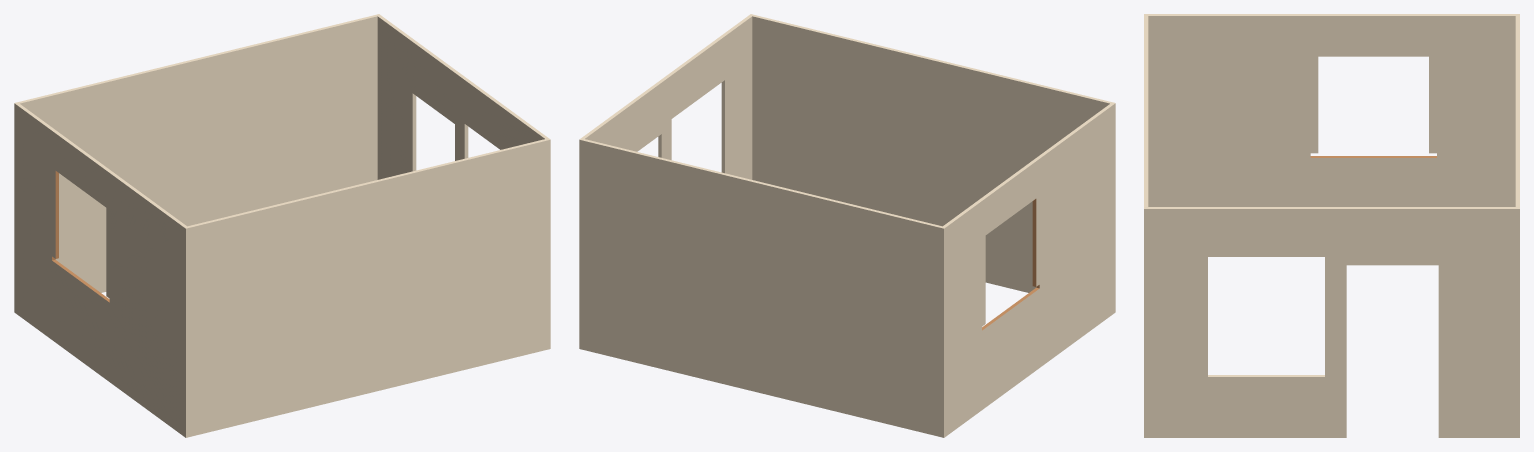
File: walls.fbx
3 views of the same model, side by side, from view 1: azimuth 30°, elevation 25°; view 2: azimuth 150°, elevation 25°; view 3: azimuth 270°, elevation 25° (orthographic). The views are drawn at different scales.
Parts seen in each view (by area): view 1: walls; view 2: walls; view 3: walls.
Boxes of the visible parts, x1,y1,x2,y2 form: walls: (14,14,550,437); walls: (579,14,1115,437); walls: (1144,14,1519,437).
Size of the model in its own units: 3.74 by 2.05 by 3.05.
